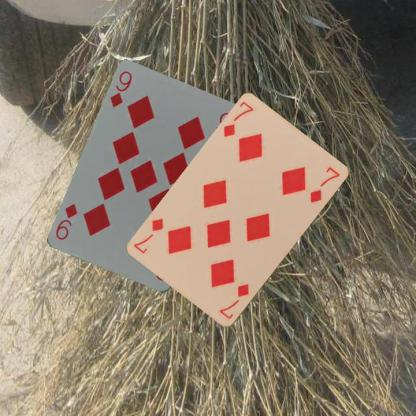7d: (216, 280, 250, 321), (221, 99, 255, 139)
9d: (108, 69, 134, 109)
